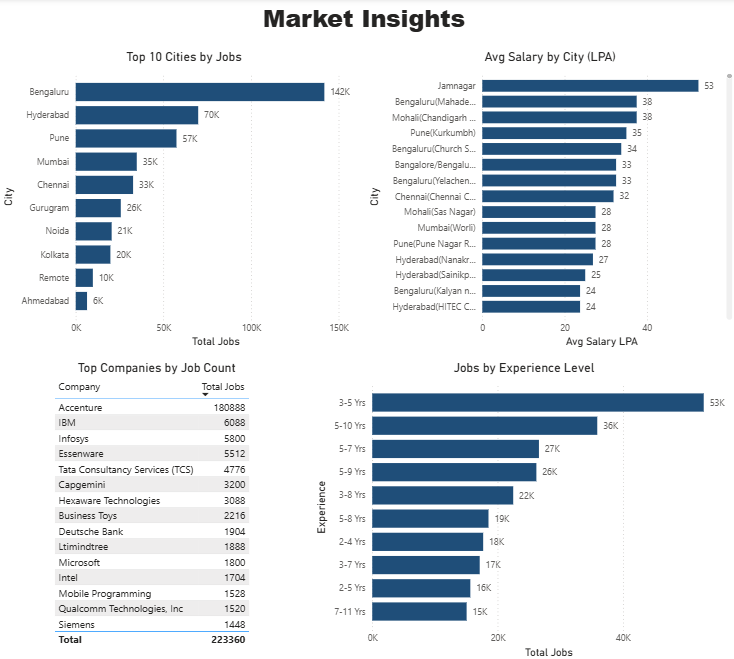

The dashboard page shown, as its layout file describes it:
{"tool":"powerbi","page":{"name":"Insights","canvas":[1000,900],"ordinal":3},"visuals":[{"type":"barChart","title":"Top 10 Cities by Jobs","fields":{"Category":["Naukri_Combined_AllCategories.City"],"Y":["Naukri_Combined_AllCategories.Total Jobs"]},"box":[0,72,504,408],"z":0},{"type":"barChart","title":"Avg Salary by City (LPA)","fields":{"Category":["Naukri_Combined_AllCategories.City"],"Y":["Naukri_Combined_AllCategories.Avg Salary LPA"]},"box":[496,72,504,408],"z":1000},{"type":"tableEx","title":"Top Companies by Job Count","fields":{"Values":["Naukri_Combined_AllCategories.Company","Naukri_Combined_AllCategories.Total Jobs"]},"box":[72,492,288,408],"z":2000},{"type":"clusteredBarChart","title":"Jobs by Experience Level","fields":{"Y":["Naukri_Combined_AllCategories.Total Jobs"],"Category":["Naukri_Combined_AllCategories.Experience"]},"box":[424,492,576,408],"z":3000},{"type":"textbox","box":[-8,0,1008,72],"z":3001}]}

Visuals, with their boxes in screenshot pixels (x1, y1, x2, y2), scaled from the page's 1000x900 canvas onto the 734x659 screenshot:
"Top 10 Cities by Jobs" barChart: x1=0 y1=53 x2=370 y2=351
"Avg Salary by City (LPA)" barChart: x1=364 y1=53 x2=733 y2=351
"Top Companies by Job Count" tableEx: x1=53 y1=360 x2=264 y2=658
"Jobs by Experience Level" clusteredBarChart: x1=311 y1=360 x2=733 y2=658
textbox: x1=0 y1=0 x2=733 y2=53
